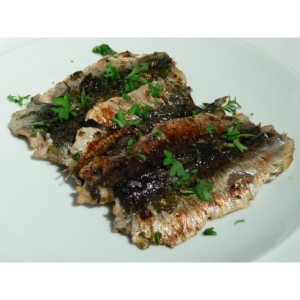sardine_brain food: (30, 89, 258, 243)
